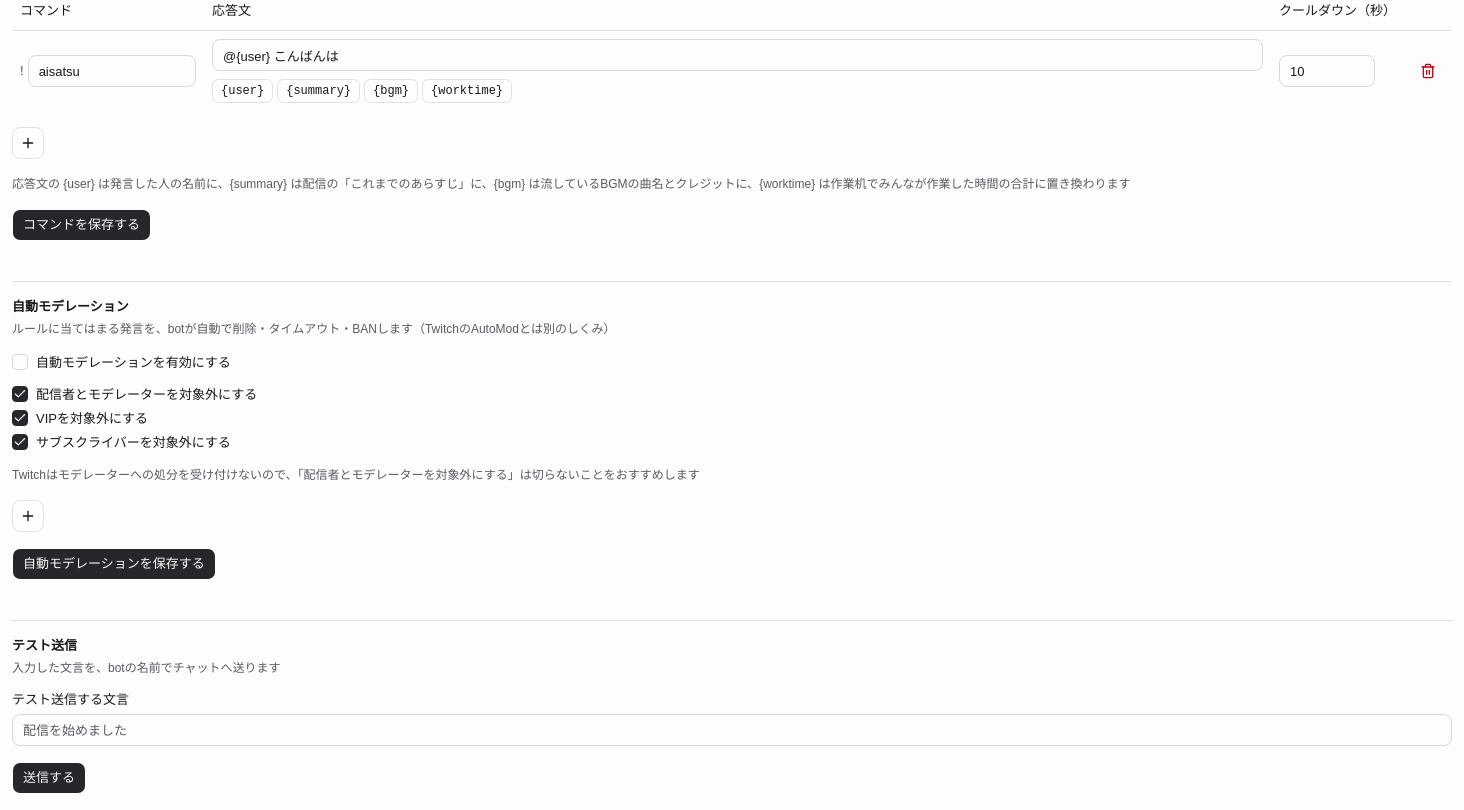
Scenario: テスト送信 › 送信に失敗したら、理由を出す
(page scrolled)
Type "あやしい文言" into the field labelled "テスト送信する文言" at {"x": 732, "y": 730}, box left=12, top=714, right=1452, bottom=746
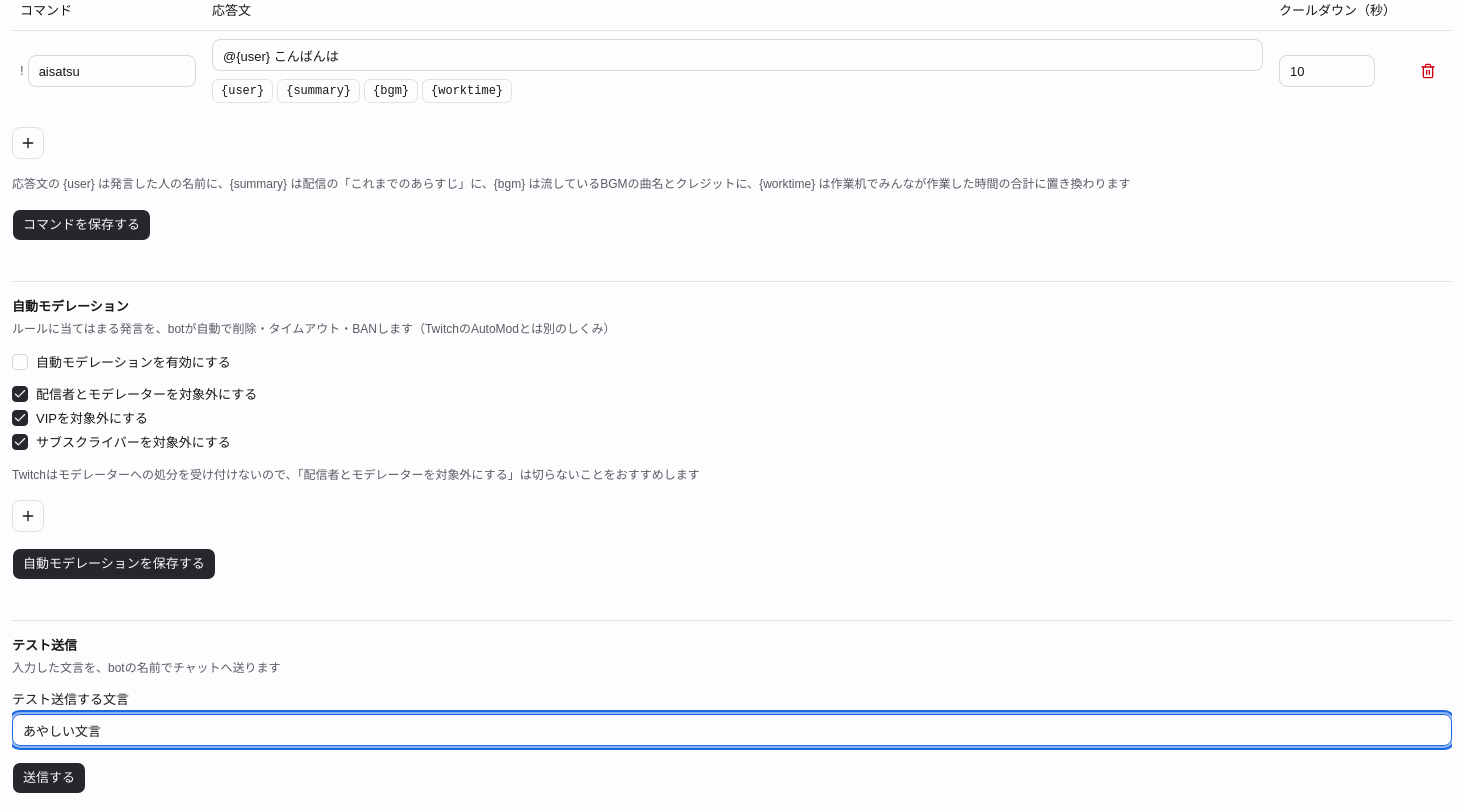
Click the button "送信する" at {"x": 49, "y": 778}, box left=12, top=762, right=86, bottom=794
(page scrolled)
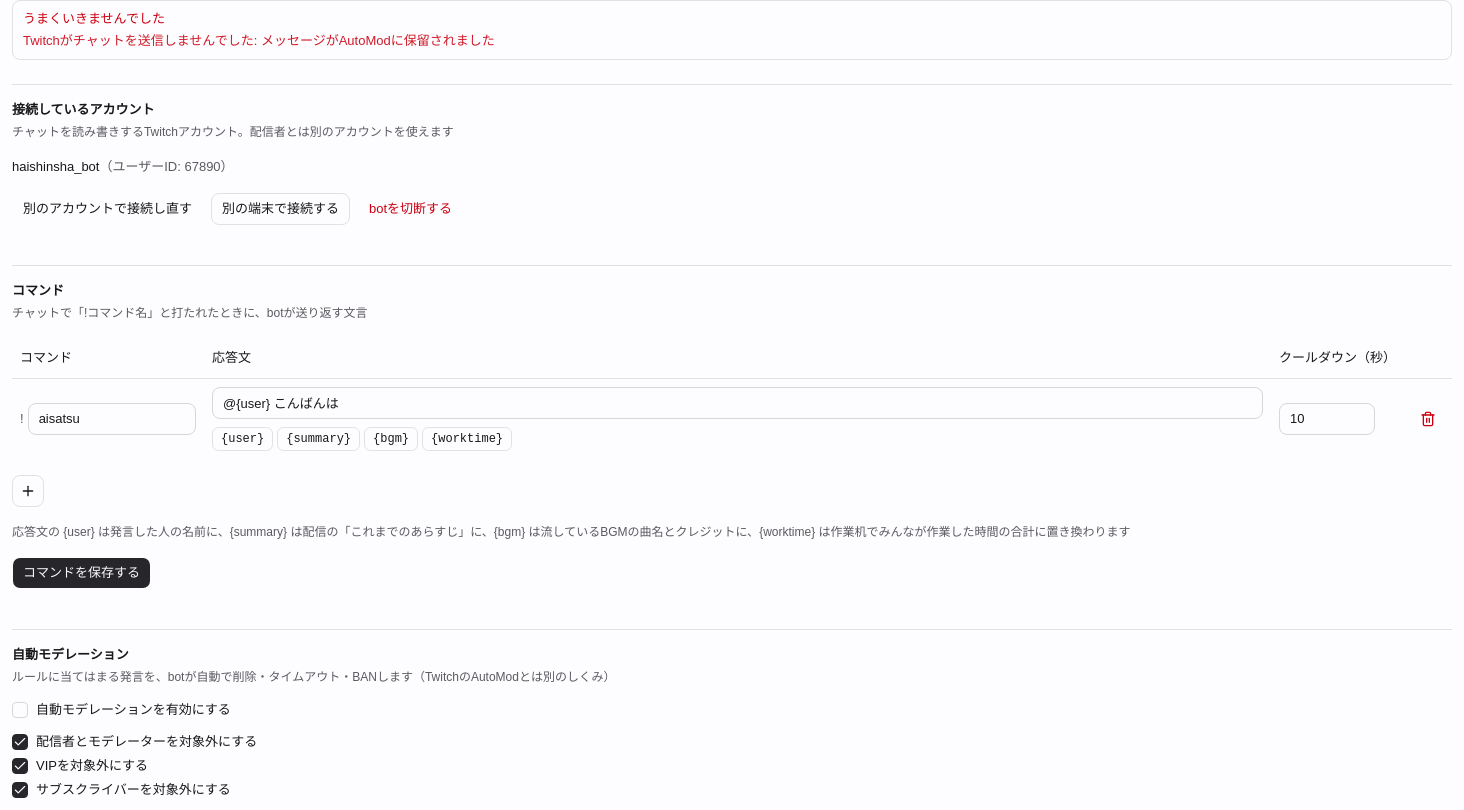
Now the text "Twitchがチャットを送信しませんでした: メッセージがAutoModに保留されました" is shown, box left=23, top=33, right=495, bottom=48
